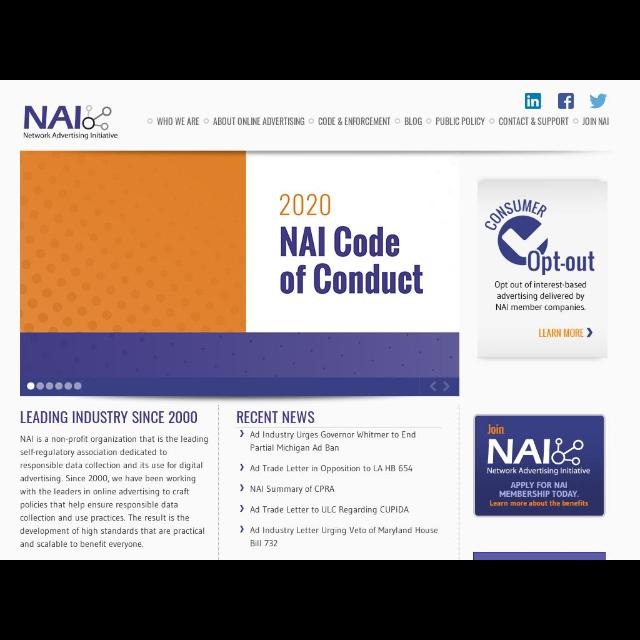icon: (430, 382, 438, 392), (442, 381, 450, 391), (587, 328, 593, 338), (240, 525, 244, 533), (240, 504, 244, 512), (240, 484, 244, 492), (240, 464, 244, 471), (240, 429, 244, 436)
image: (21, 150, 460, 378), (474, 414, 606, 518), (483, 199, 595, 275), (23, 104, 118, 140), (524, 92, 542, 110), (589, 92, 607, 110), (558, 93, 574, 109)
pageindicator: (26, 382, 84, 391)
panel: (478, 180, 608, 358)
text: (19, 434, 209, 550), (494, 282, 588, 312), (21, 411, 198, 424), (250, 526, 438, 536), (251, 464, 414, 474), (250, 505, 410, 515), (250, 430, 416, 438), (237, 411, 315, 424), (213, 116, 305, 125), (250, 443, 340, 452), (250, 486, 334, 494), (499, 116, 569, 125), (318, 117, 392, 125), (538, 328, 584, 338), (436, 117, 486, 125), (157, 116, 199, 125), (582, 116, 610, 125), (250, 540, 278, 546), (405, 117, 423, 125)
toolbar: (0, 80, 634, 152)
